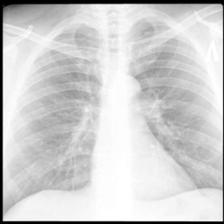tuberculosis: (1, 4, 224, 214)
